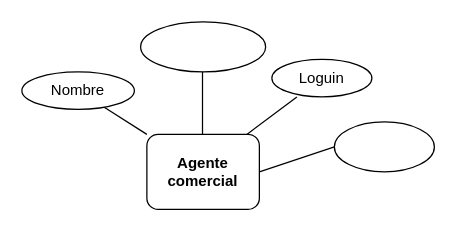
Some shapes in this 456 by 231 pixel diagram are drawn without their labels. The shapes that lost their labels are listed below. From the top down, each one's centre as x and y in pixels, then its label:
At point 202,46: "ID_agente".
At point 383,146: "Cedula".
